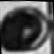correct: (0, 2, 52, 54)
